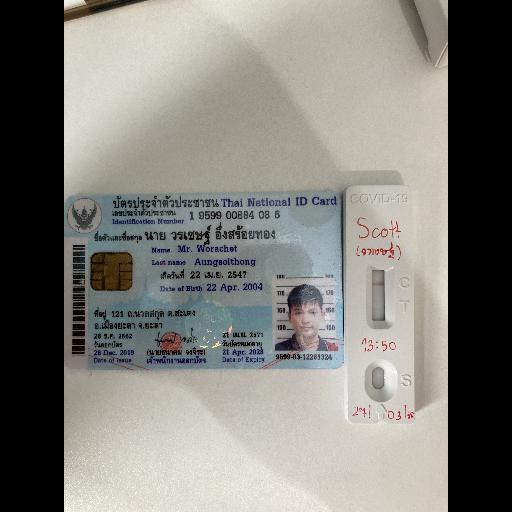Neg: (344, 187, 416, 425)
